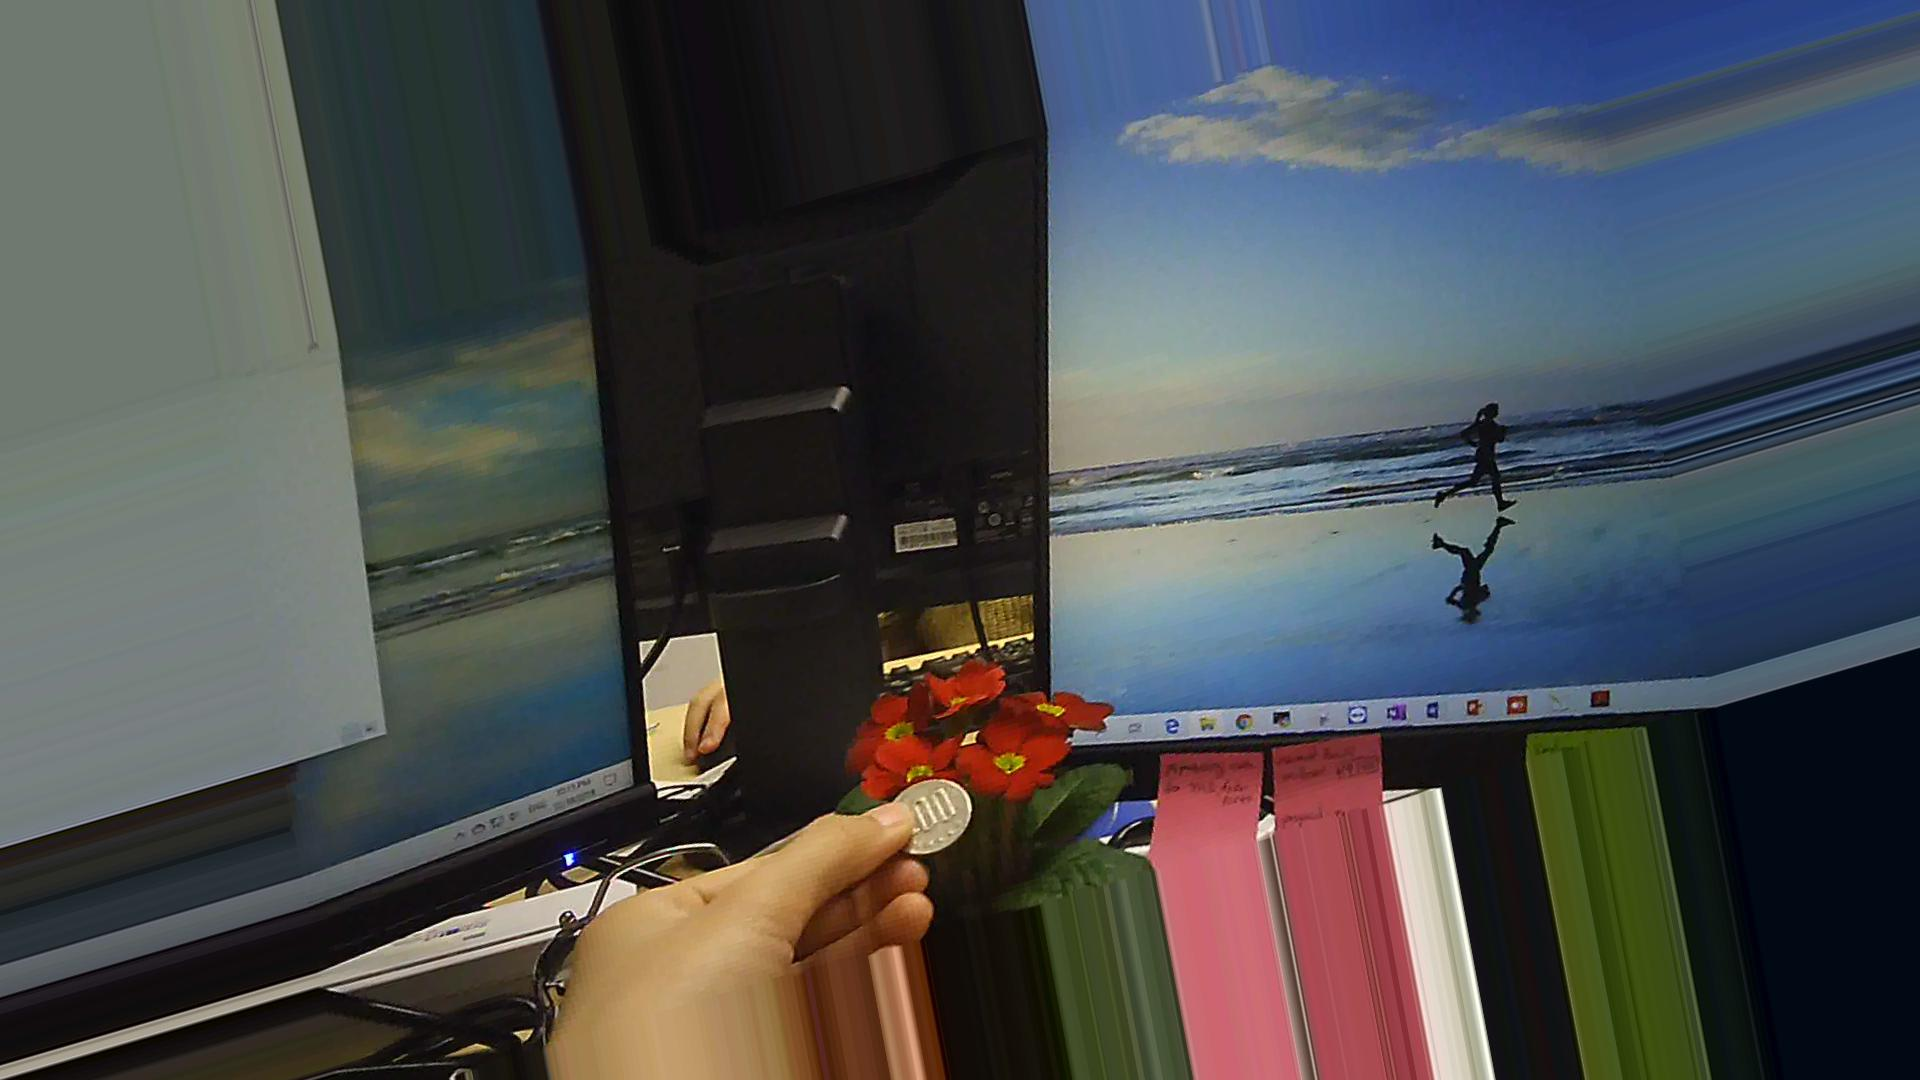100 Yen: (872, 771, 978, 855)
